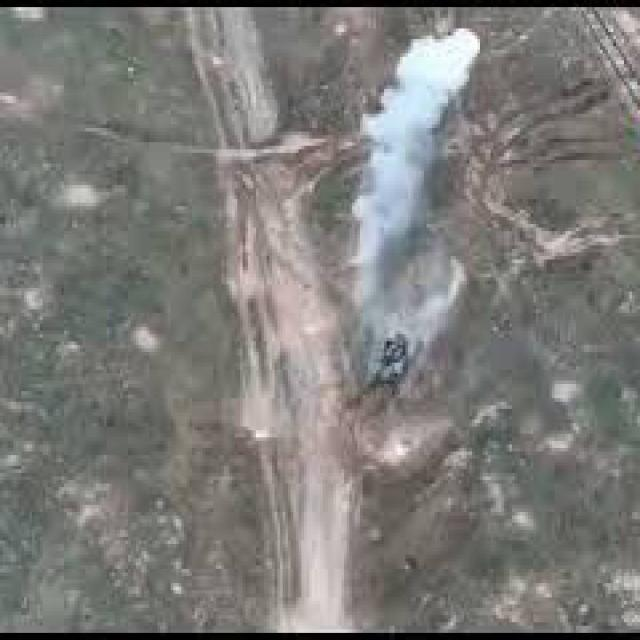cars: (366, 329, 411, 384)
